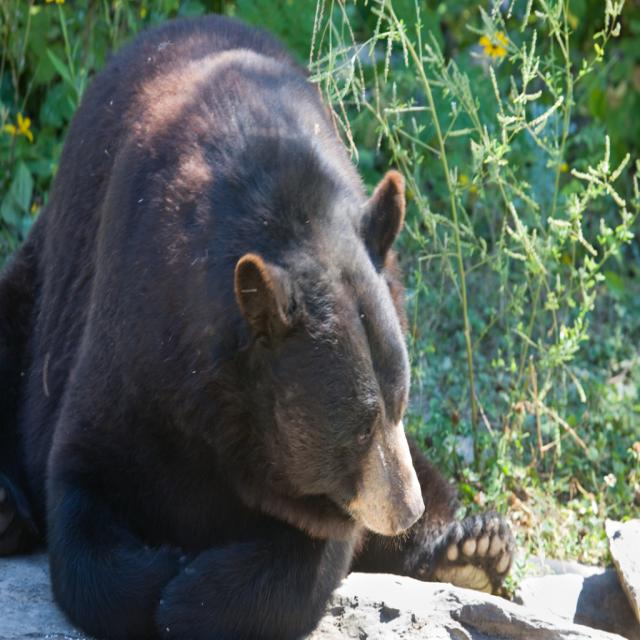Bear: (0, 10, 515, 640)
